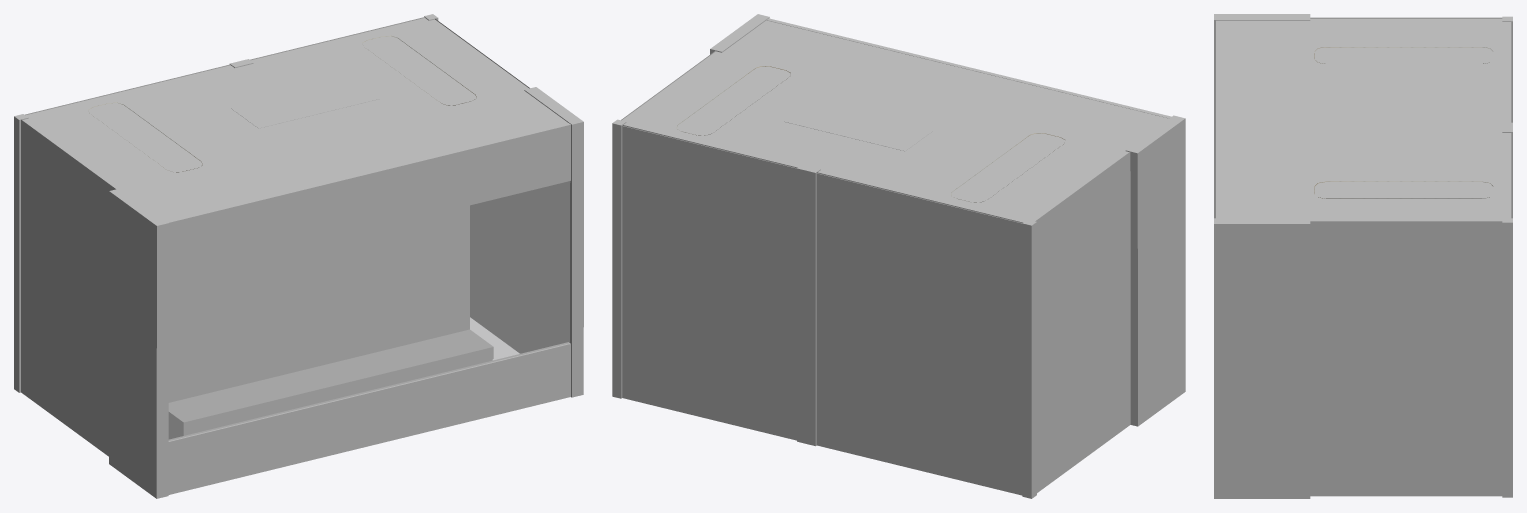
Rendered from shop_22c.fbx.
3 renders of one model, left to right at view 1: azimuth 30°, elevation 25°; view 2: azimuth 150°, elevation 25°; view 3: azimuth 270°, elevation 25°, orthographic.
Visible parts, largest first — view 1: shop_22c; view 2: shop_22c; view 3: shop_22c.
Boxes of the visible parts, <box> form: shop_22c: <box>14,14,583,498</box>; shop_22c: <box>612,14,1185,498</box>; shop_22c: <box>1214,14,1512,498</box>.
Size of the model in its own units: 5.25 by 3.2 by 3.15.
